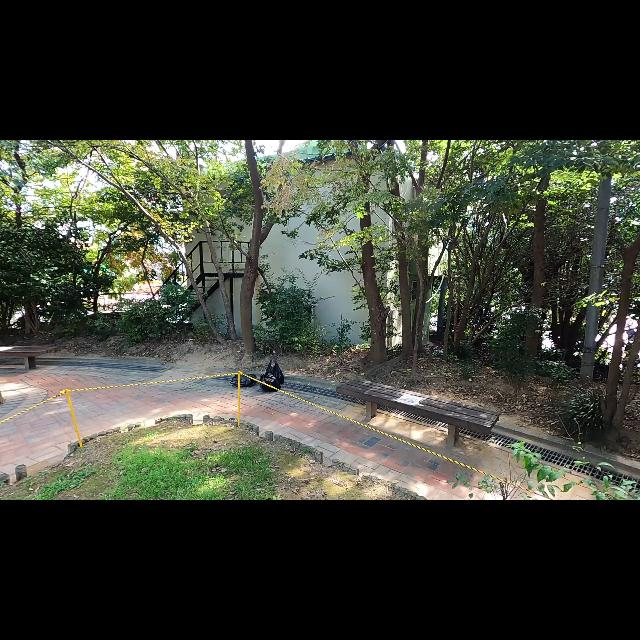trash: (264, 355, 286, 385), (229, 368, 259, 390), (260, 369, 282, 393)
